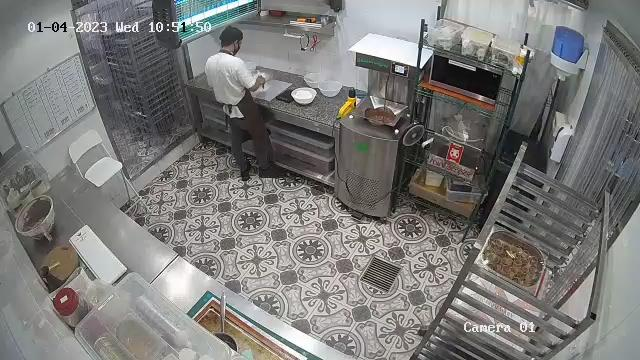apron: (210, 75, 260, 135)
